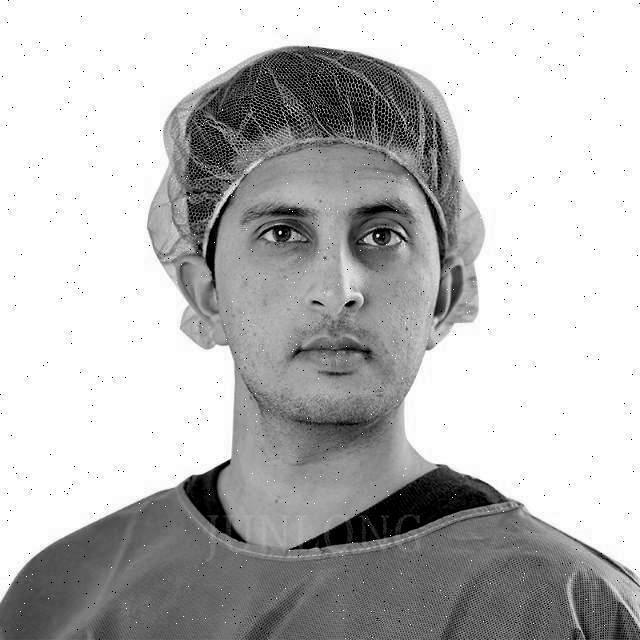gloves: (152, 38, 470, 202)
no_hairnet: (210, 286, 407, 381)
